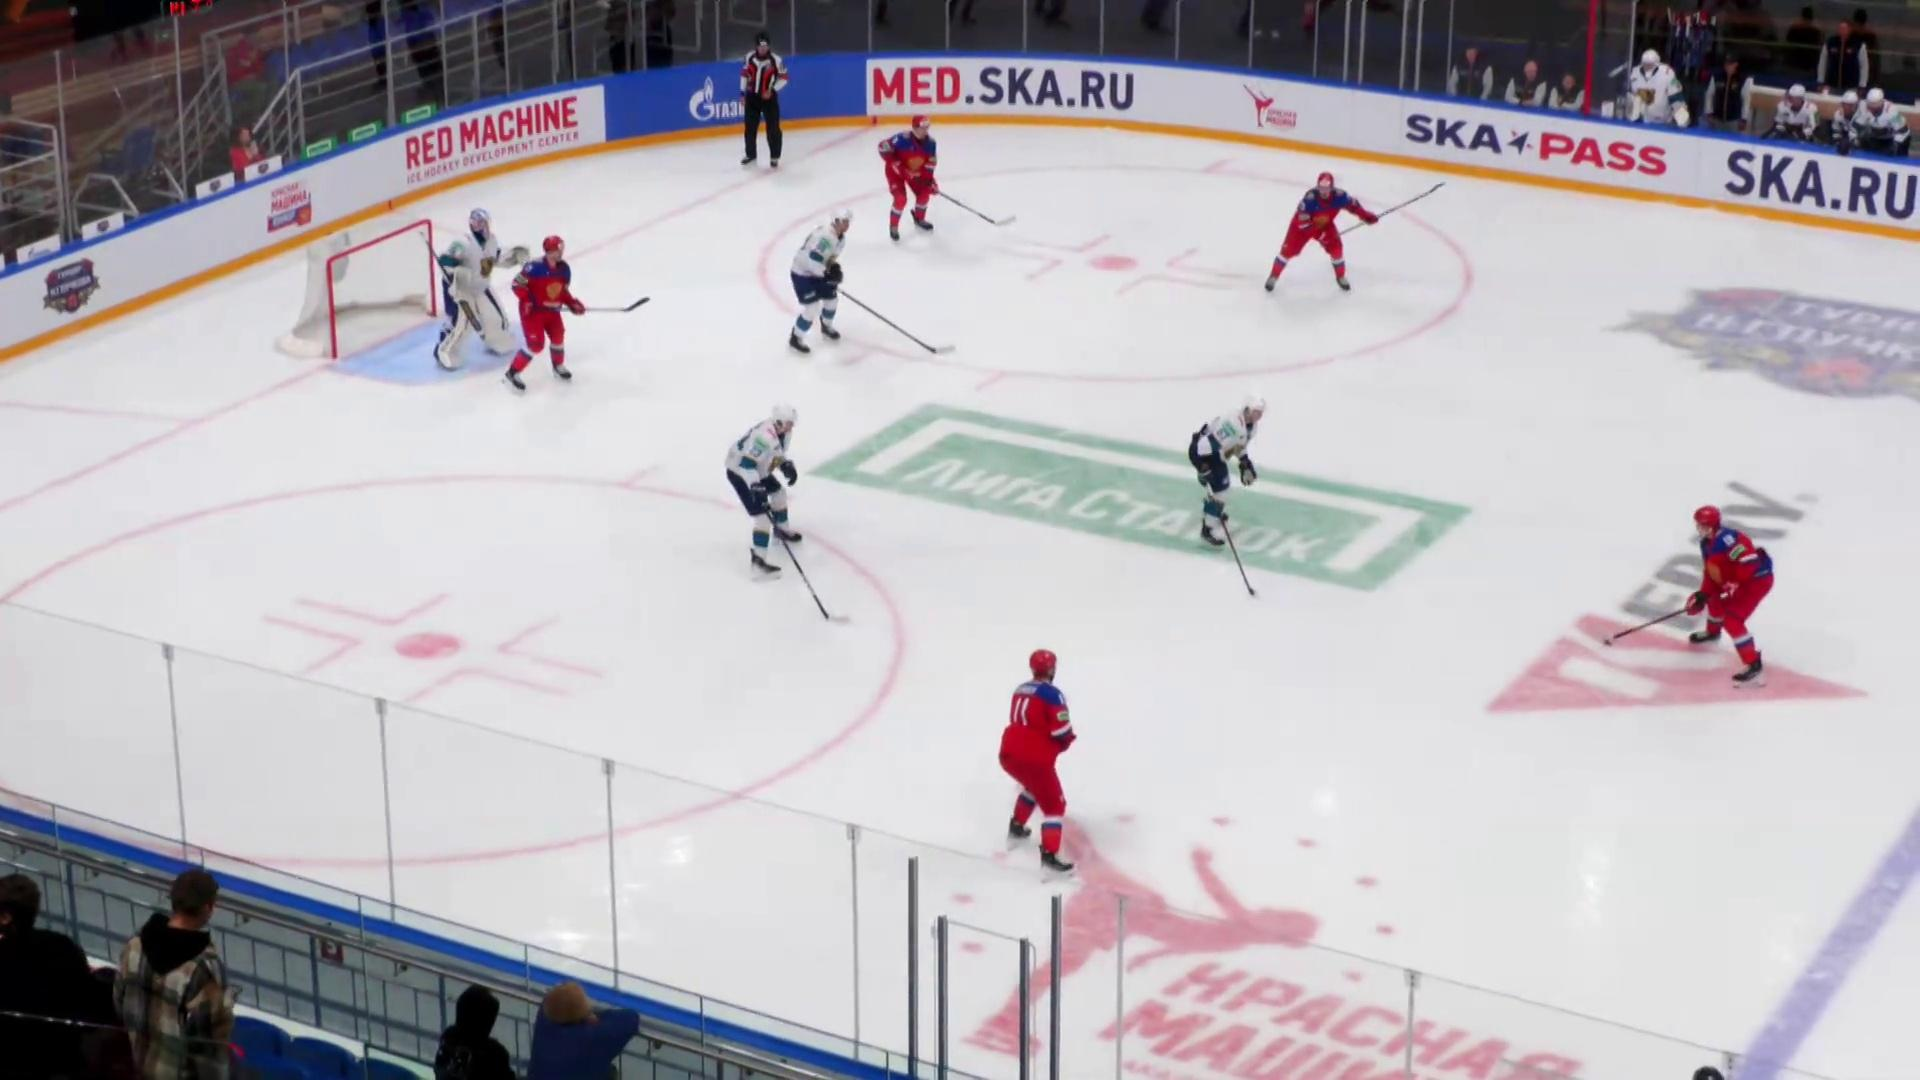ball: (1605, 638, 1611, 646)
